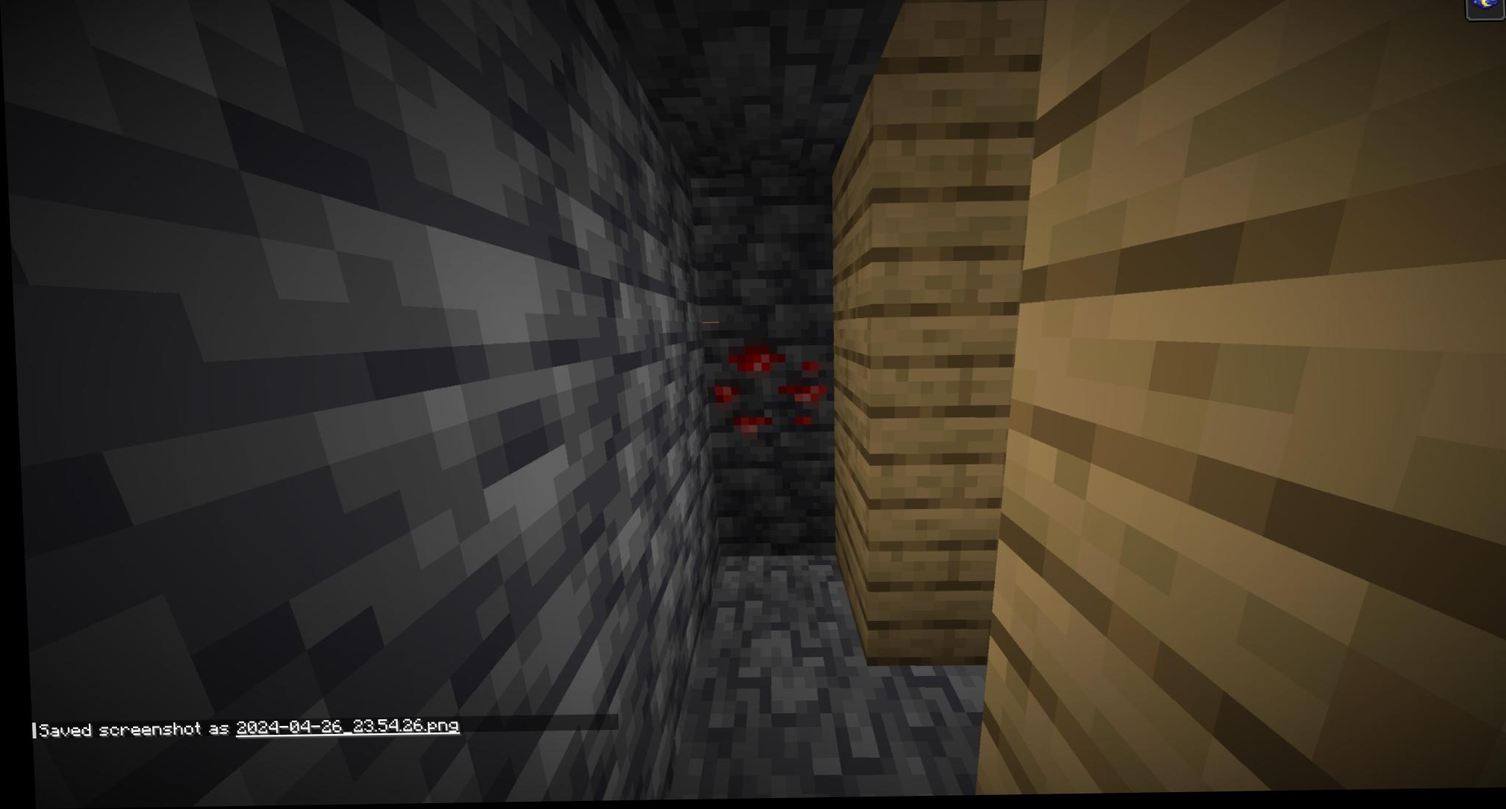redstone ore: (698, 336, 836, 449)
